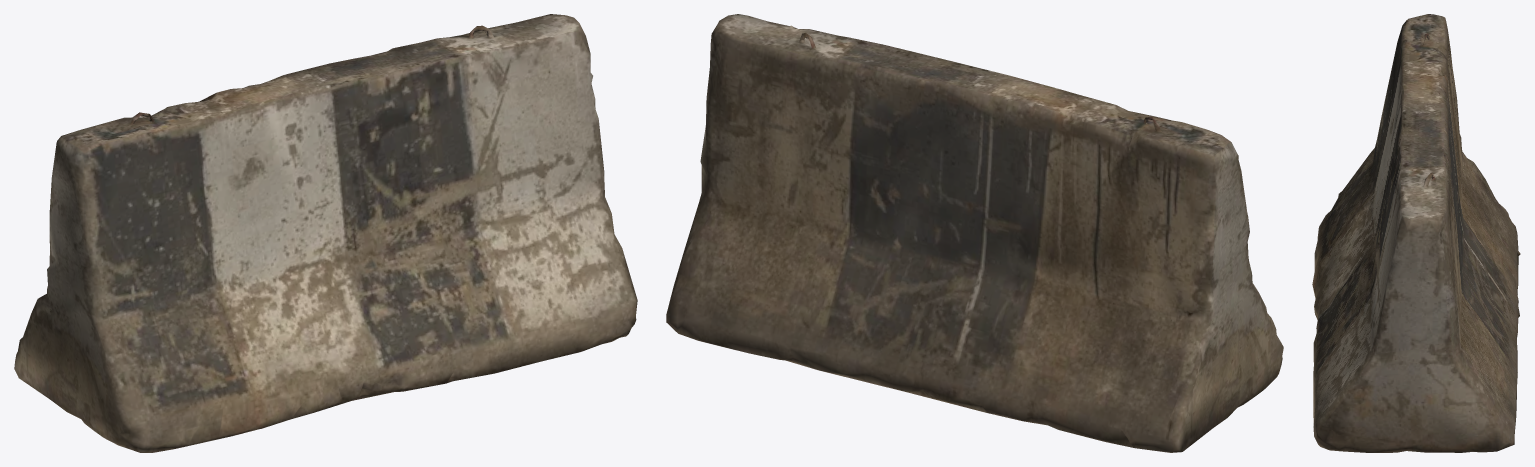
The model's file is concrete_road_barrier.glb.
The picture shows the model from 3 angles, left to right: view 1: azimuth 30°, elevation 25°; view 2: azimuth 150°, elevation 25°; view 3: azimuth 270°, elevation 25°; orthographic projection. The views are drawn at different scales.
Visible parts, largest first — view 1: concrete_road_barrier; view 2: concrete_road_barrier; view 3: concrete_road_barrier.
Boxes of the visible parts, x1,y1,x2,y2 form: concrete_road_barrier: [14, 14, 637, 452]; concrete_road_barrier: [666, 14, 1283, 452]; concrete_road_barrier: [1312, 14, 1520, 452].
Size of the model in its own units: 1.54 by 0.8304 by 0.6387.
Materials: 1 (1 with a texture image).
